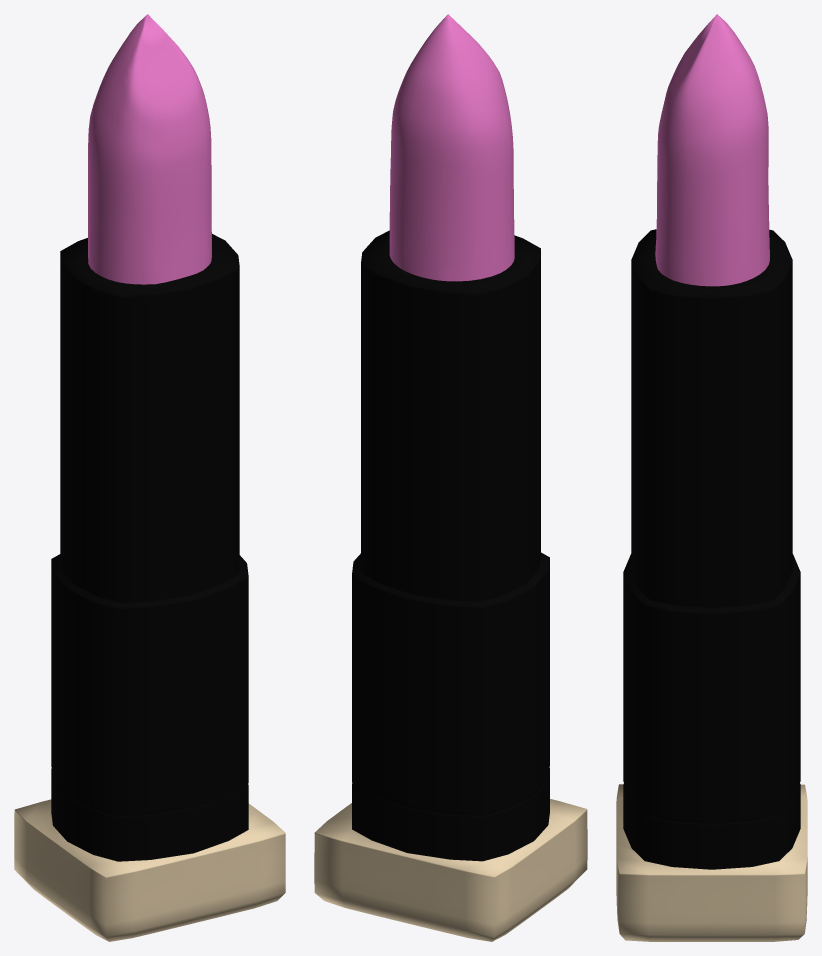
The model's file is rougeal_t_.fbx.
The picture shows the model from 3 angles, left to right: view 1: azimuth 30°, elevation 25°; view 2: azimuth 150°, elevation 25°; view 3: azimuth 270°, elevation 25°; orthographic projection.
Parts seen in each view (by area): view 1: Stylish_Lipstick_Cube.000; view 2: Stylish_Lipstick_Cube.000; view 3: Stylish_Lipstick_Cube.000.
Boxes of the visible parts, x1,y1,x2,y2 form: Stylish_Lipstick_Cube.000: [14, 14, 285, 941]; Stylish_Lipstick_Cube.000: [314, 14, 587, 941]; Stylish_Lipstick_Cube.000: [616, 14, 807, 941].
Bounding box in the file's own units: 3.55 × 16.11 × 3.14.
